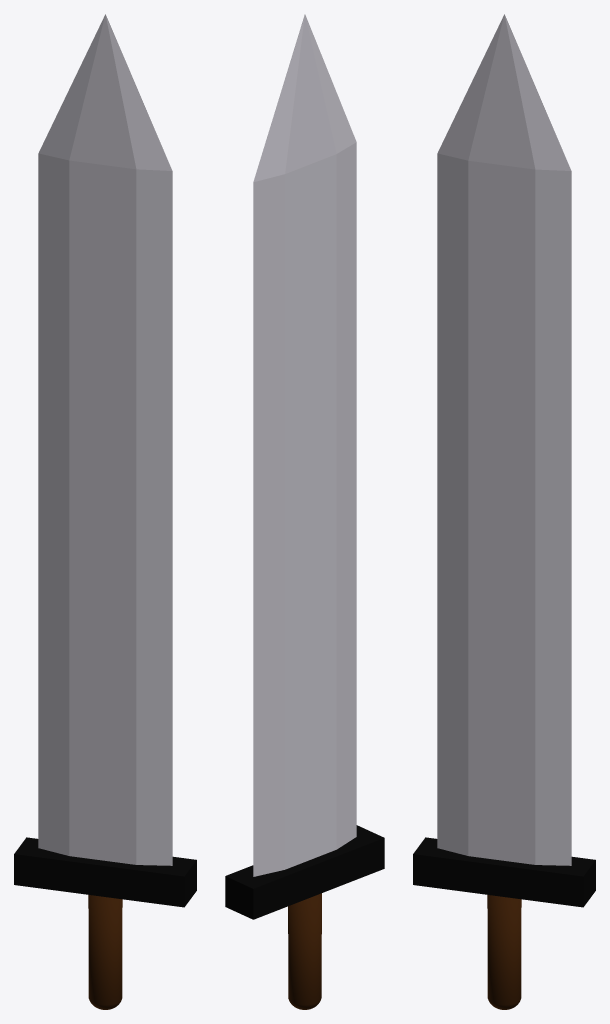
Rendered from Sword.fbx.
3 views of the same model, side by side, from view 1: azimuth 90°, elevation 25°; view 2: azimuth 150°, elevation 25°; view 3: azimuth 270°, elevation 25° (orthographic).
Parts seen in each view (by area): view 1: Lamina, Cube.001, Sphere; view 2: Lamina, Cube.001, Sphere; view 3: Lamina, Cube.001, Sphere.
Part boxes in pixels (x1,y1,x2,y2): Lamina: [38, 14, 172, 865]; Cube.001: [14, 837, 196, 907]; Sphere: [88, 895, 122, 1009]; Lamina: [253, 14, 356, 876]; Cube.001: [225, 825, 384, 919]; Sphere: [288, 893, 321, 1009]; Lamina: [437, 14, 571, 865]; Cube.001: [413, 837, 595, 907]; Sphere: [487, 895, 521, 1009].
Size of the model in its own units: 21.24 by 251 by 41.78.
